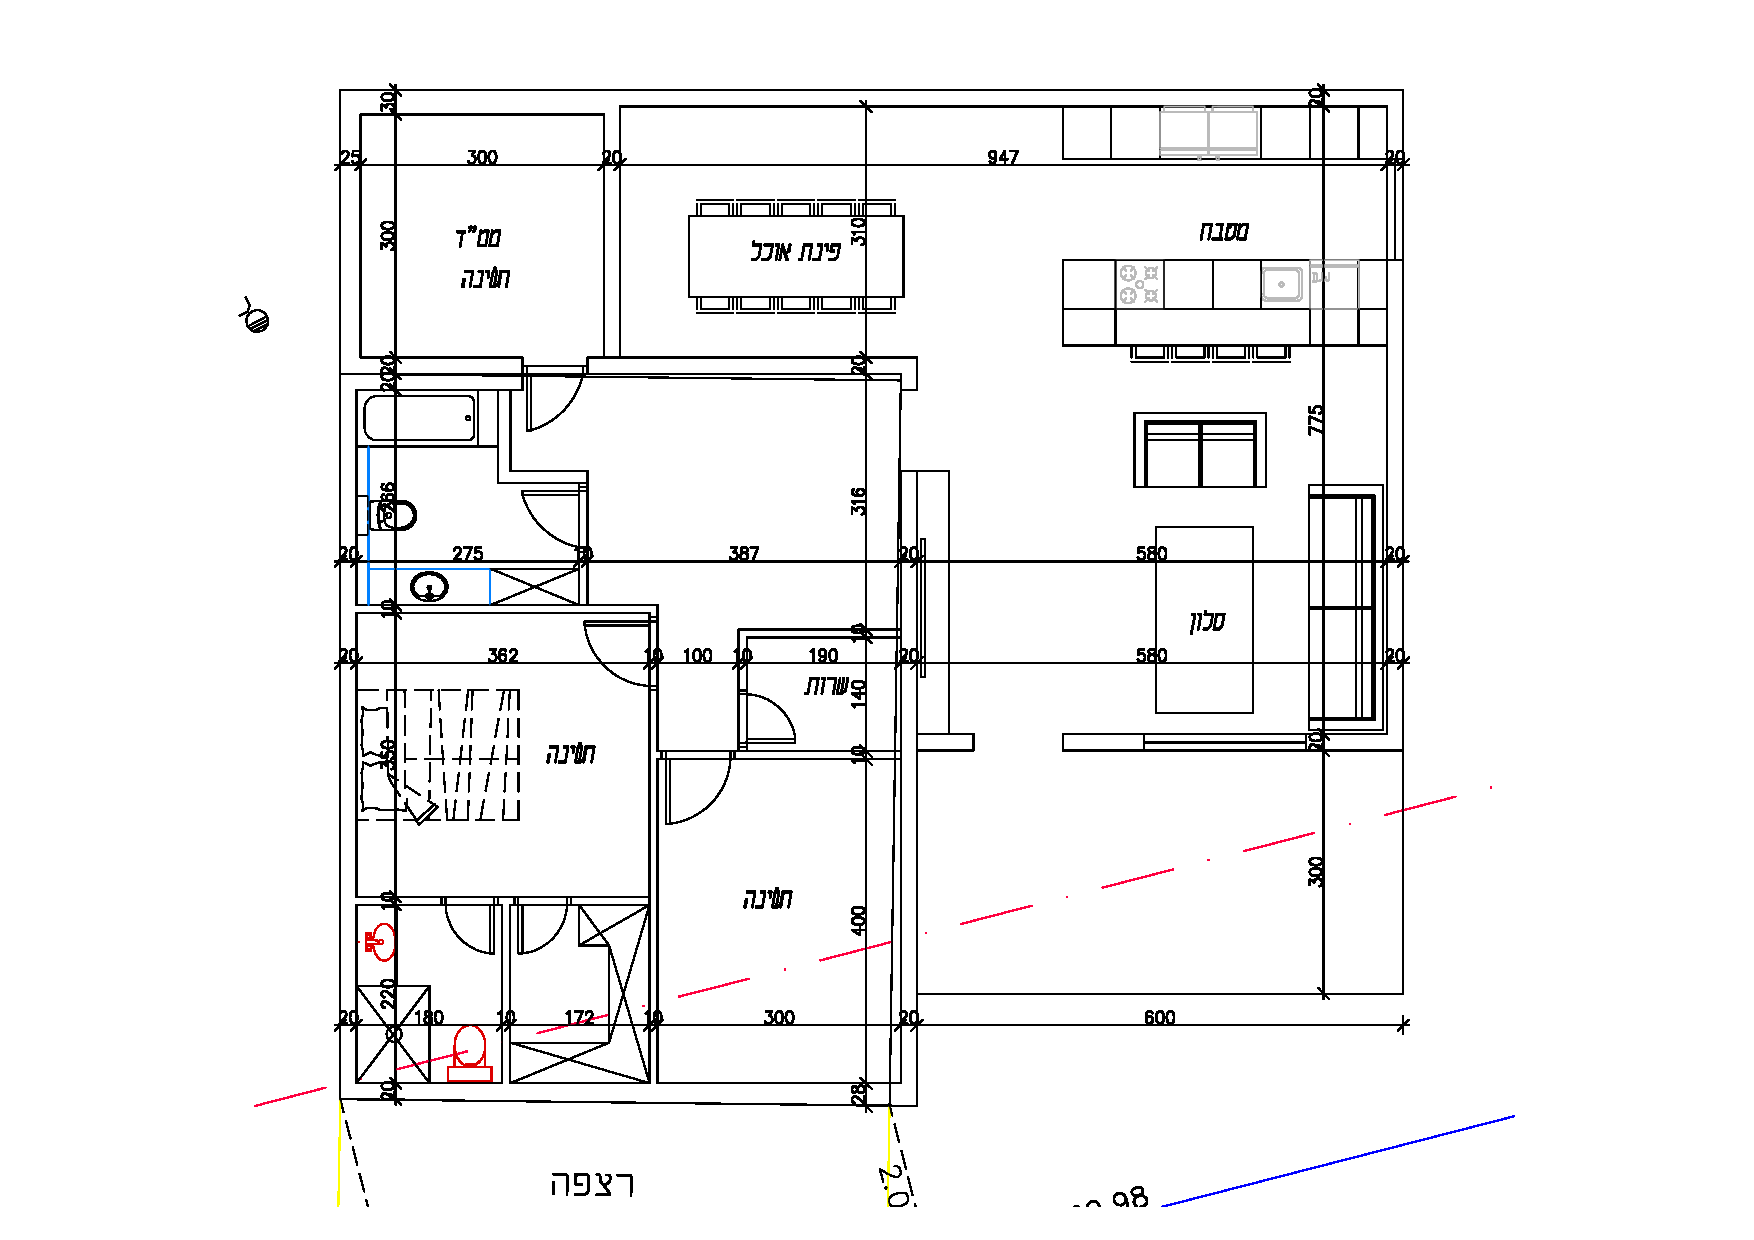door: (526, 384, 593, 450), (507, 490, 574, 556), (749, 680, 803, 747)
window: (1143, 731, 1307, 752)
